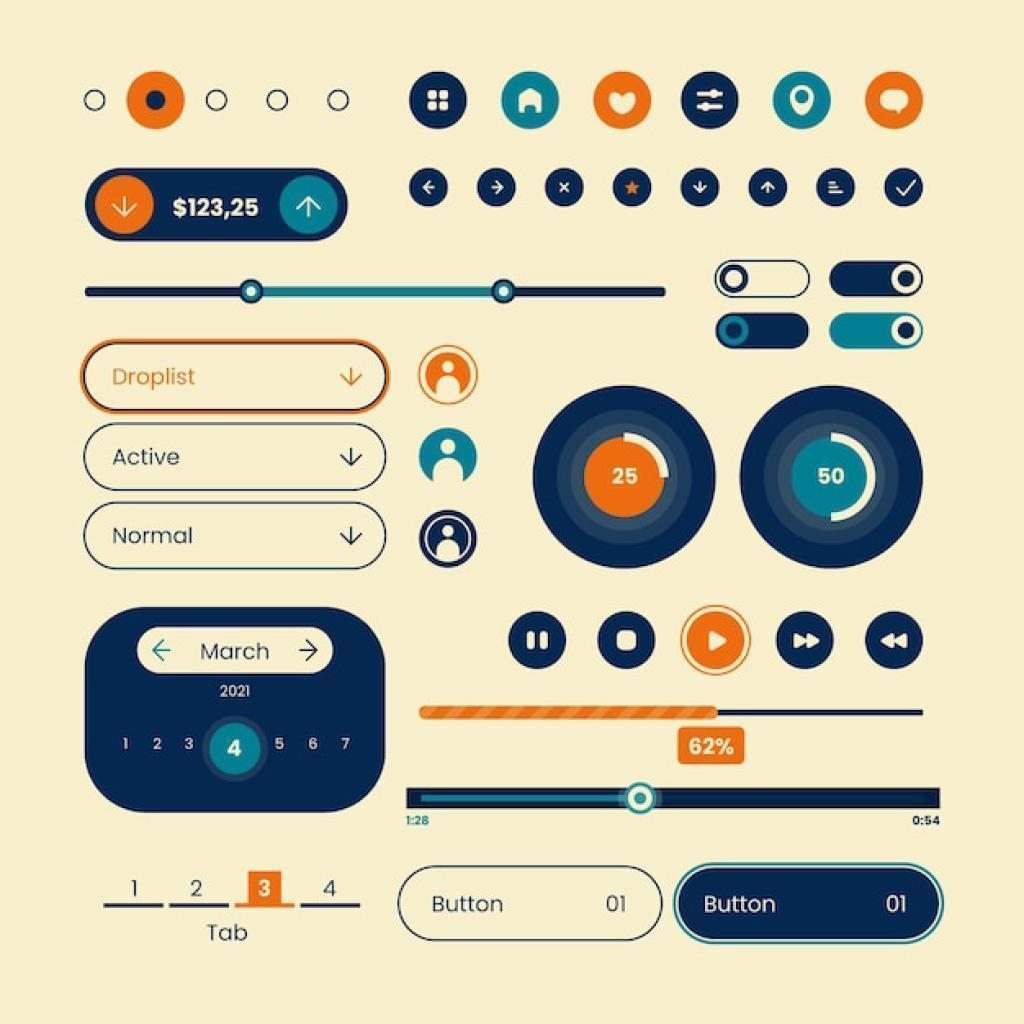button: (673, 865, 944, 946), (396, 864, 662, 941)
icon: (878, 86, 913, 116), (514, 86, 546, 118), (787, 86, 816, 120), (606, 89, 639, 118), (692, 86, 725, 114), (424, 86, 453, 113), (524, 626, 553, 652), (706, 625, 731, 655), (790, 629, 822, 652), (880, 633, 913, 651)
radio: (615, 627, 638, 652)
switch: (826, 307, 926, 355), (714, 310, 811, 352), (712, 261, 811, 300), (825, 260, 923, 299)
